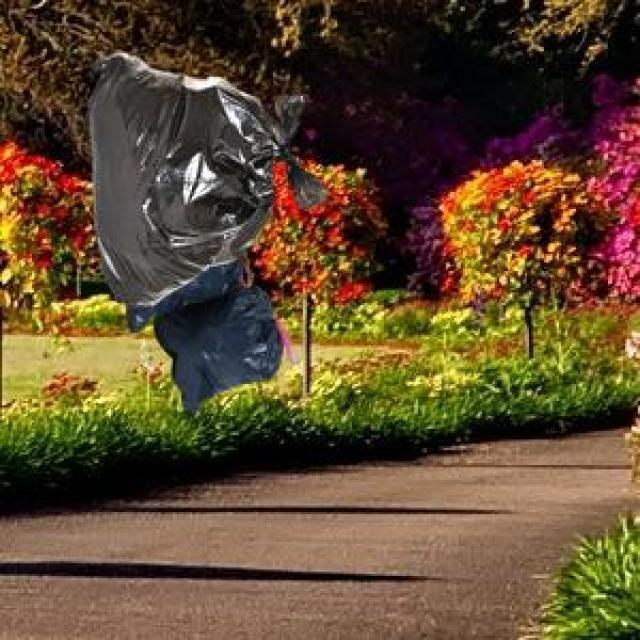Vinyl: (89, 52, 325, 412)
